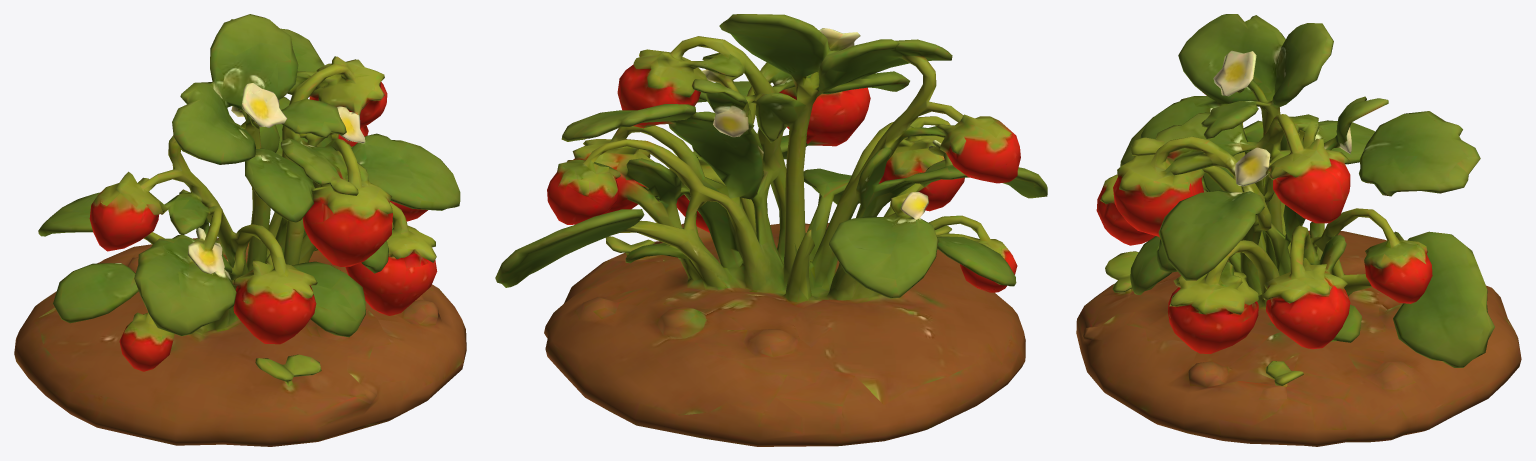
3 renders of one model, left to right at view 1: azimuth 30°, elevation 25°; view 2: azimuth 150°, elevation 25°; view 3: azimuth 270°, elevation 25°, orthographic. The views are drawn at different scales.
Parts seen in each view (by area): view 1: strawberry-ready; view 2: strawberry-ready; view 3: strawberry-ready.
Part boxes in pixels (x1,y1,x2,y2): strawberry-ready: (14, 14, 466, 446); strawberry-ready: (495, 14, 1047, 446); strawberry-ready: (1076, 14, 1521, 446).
Size of the model in its own units: 0.8034 by 0.6358 by 0.776.
Materials: 1 (1 with a texture image).
